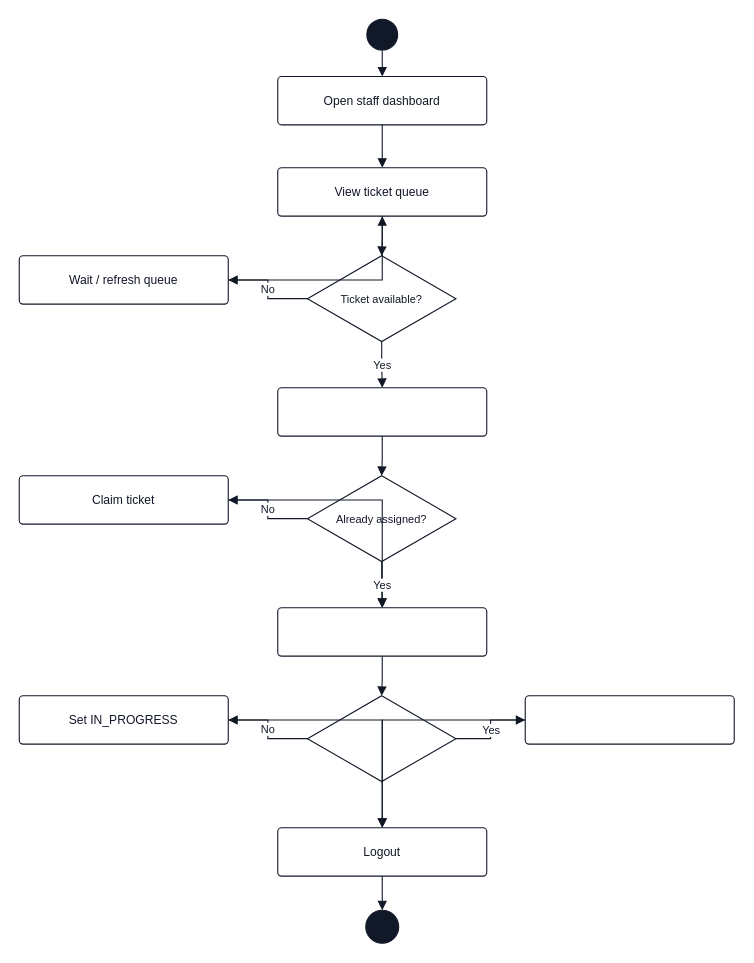
The diagram is 754 pixels wide and 963 high, and some of its shapes have lost their labels. The centre of each missing label's shape, as x and y in pixels:
Reply or update status: pixel 382 631
Resolved?: pixel 381 738
Review ticket details: pixel 382 411
Set RESOLVED and notify student: pixel 629 719
